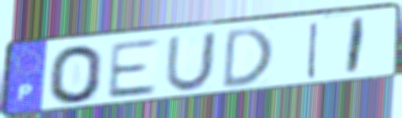D: (219, 25, 275, 92)
E: (104, 37, 160, 101)
I: (343, 15, 369, 78), (305, 19, 322, 81)
O: (47, 43, 105, 107)
U: (163, 30, 220, 94)
